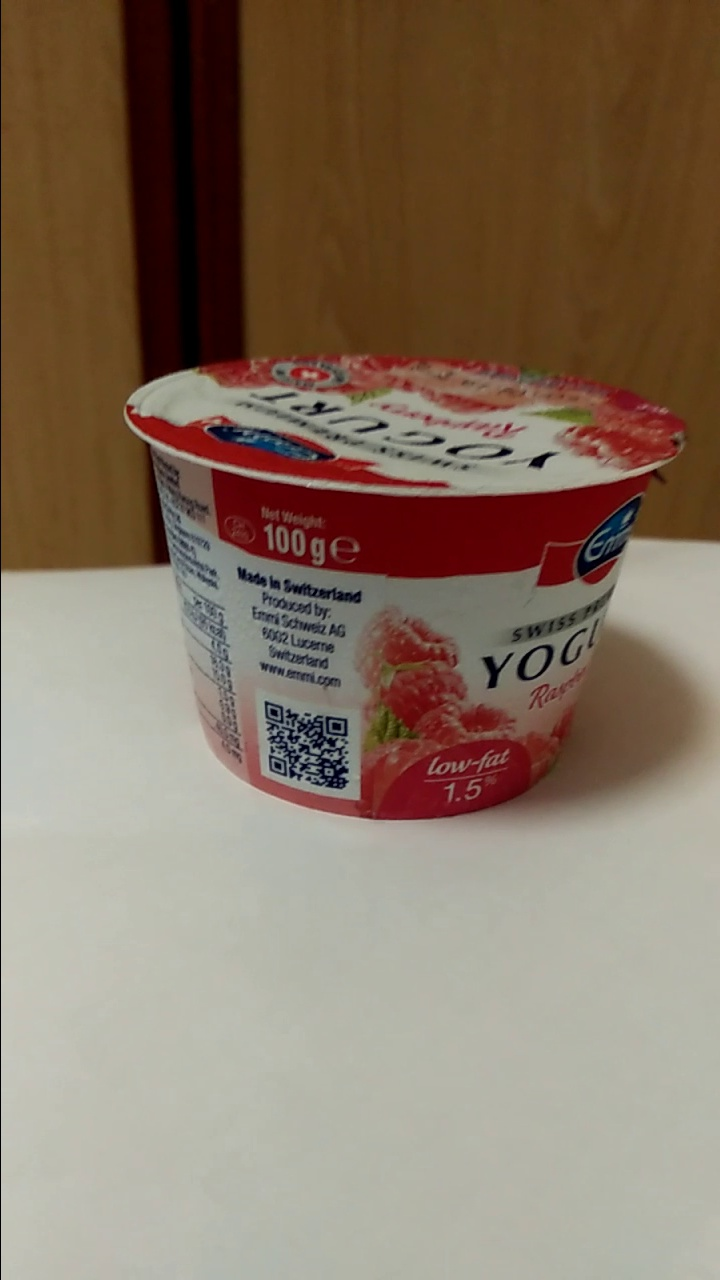yogurt: (127, 355, 686, 821)
